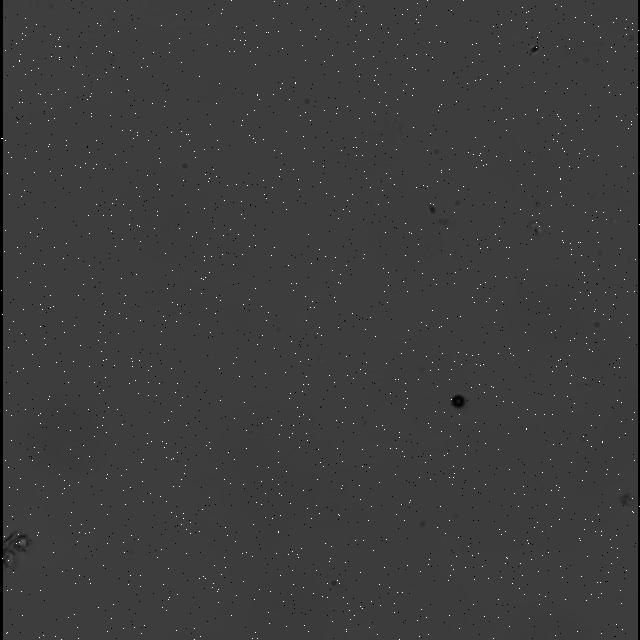microbeads: (449, 394, 467, 411)
